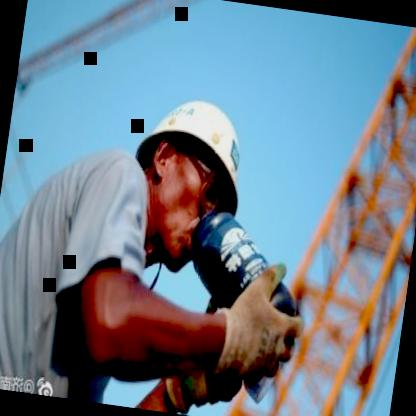helmet: (117, 93, 256, 277)
